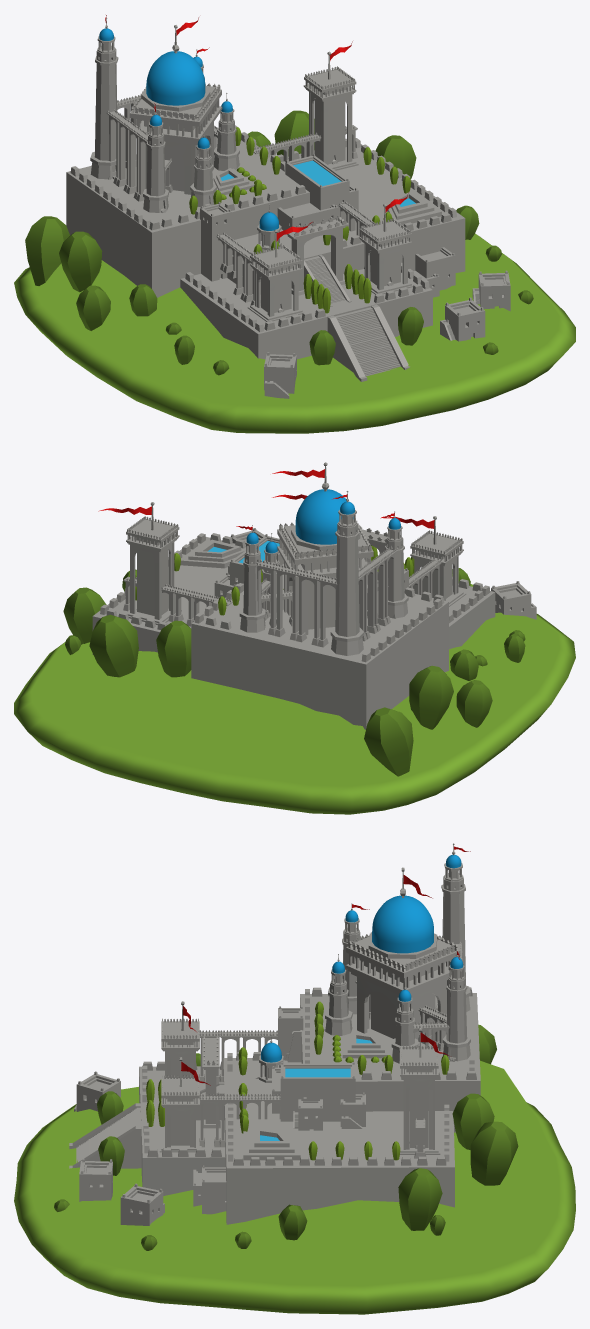
The model's file is castle_on_hills.glb.
3 renders of one model, top to bottom at view 1: azimuth 30°, elevation 25°; view 2: azimuth 150°, elevation 25°; view 3: azimuth 270°, elevation 25°, orthographic. The views are drawn at different scales.
Parts seen in each view (by area): view 1: polySurface303, polySurface304, polySurface262, polySurface265, polySurface333, polySurface292, polySurface336, polySurface309, polySurface311, polySurface305, pCube105, pCylinder58 (+20 smaller); view 2: polySurface303, polySurface304, polySurface262, polySurface265, polySurface309, polySurface312, polySurface311, pCylinder58, pCylinder4, polySurface292, pCylinder41, polySurface298 (+11 smaller); view 3: polySurface303, polySurface304, polySurface262, pCube105, polySurface265, polySurface336, polySurface305, polySurface333, pCylinder4, polySurface309, pCylinder3, polySurface298 (+17 smaller).
Part boxes in pixels (left/top/right/bottom): polySurface303: left=14, top=233, right=575, bottom=433; polySurface304: left=66, top=137, right=465, bottom=359; polySurface262: left=129, top=25, right=222, bottom=194; polySurface265: left=303, top=66, right=358, bottom=170; polySurface333: left=327, top=304, right=409, bottom=381; polySurface292: left=247, top=245, right=304, bottom=321; polySurface336: left=359, top=218, right=413, bottom=294; polySurface309: left=90, top=17, right=118, bottom=179; polySurface311: left=106, top=109, right=148, bottom=201; polySurface305: left=190, top=93, right=240, bottom=207; pCube105: left=285, top=154, right=349, bottom=220; pCylinder58: left=25, top=216, right=69, bottom=285; polySurface303: left=14, top=584, right=575, bottom=814; polySurface304: left=92, top=537, right=495, bottom=729; polySurface262: left=277, top=462, right=373, bottom=634; polySurface265: left=126, top=516, right=181, bottom=625; polySurface309: left=330, top=491, right=364, bottom=655; polySurface312: left=256, top=560, right=337, bottom=647; polySurface311: left=358, top=547, right=397, bottom=641; pCylinder58: left=364, top=707, right=413, bottom=776; pCylinder4: left=89, top=614, right=138, bottom=677; polySurface292: left=410, top=530, right=466, bottom=606; pCylinder41: left=409, top=665, right=453, bottom=729; polySurface298: left=239, top=525, right=265, bottom=632; polySurface303: left=14, top=1060, right=575, bottom=1314; polySurface304: left=139, top=993, right=480, bottom=1224; polySurface262: left=345, top=867, right=460, bottom=1039; pCube105: left=280, top=1062, right=355, bottom=1121; polySurface265: left=398, top=1046, right=440, bottom=1154; polySurface336: left=159, top=1075, right=201, bottom=1152; polySurface305: left=323, top=954, right=418, bottom=1063; polySurface333: left=69, top=1103, right=141, bottom=1168; pCylinder4: left=470, top=1121, right=518, bottom=1185; polySurface309: left=435, top=843, right=470, bottom=1011; pCylinder3: left=398, top=1168, right=442, bottom=1230; polySurface298: left=442, top=949, right=470, bottom=1061.
Size of the model in its own units: 9.8 by 6.3 by 10.54.
